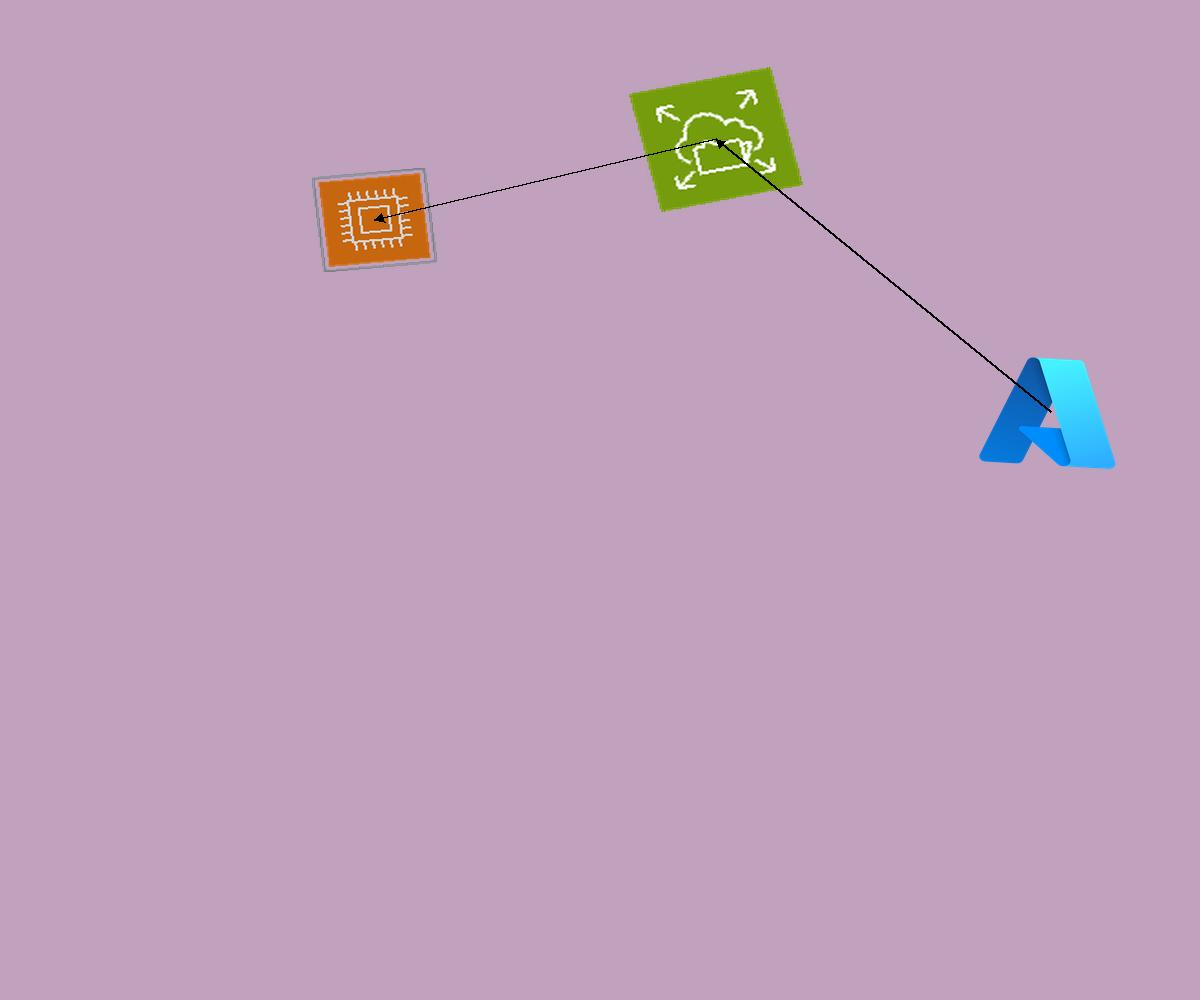AWS-Category_Compute: (311, 167, 438, 273)
AWS-EFS: (629, 67, 803, 212)
Azure_services: (972, 346, 1131, 478)
